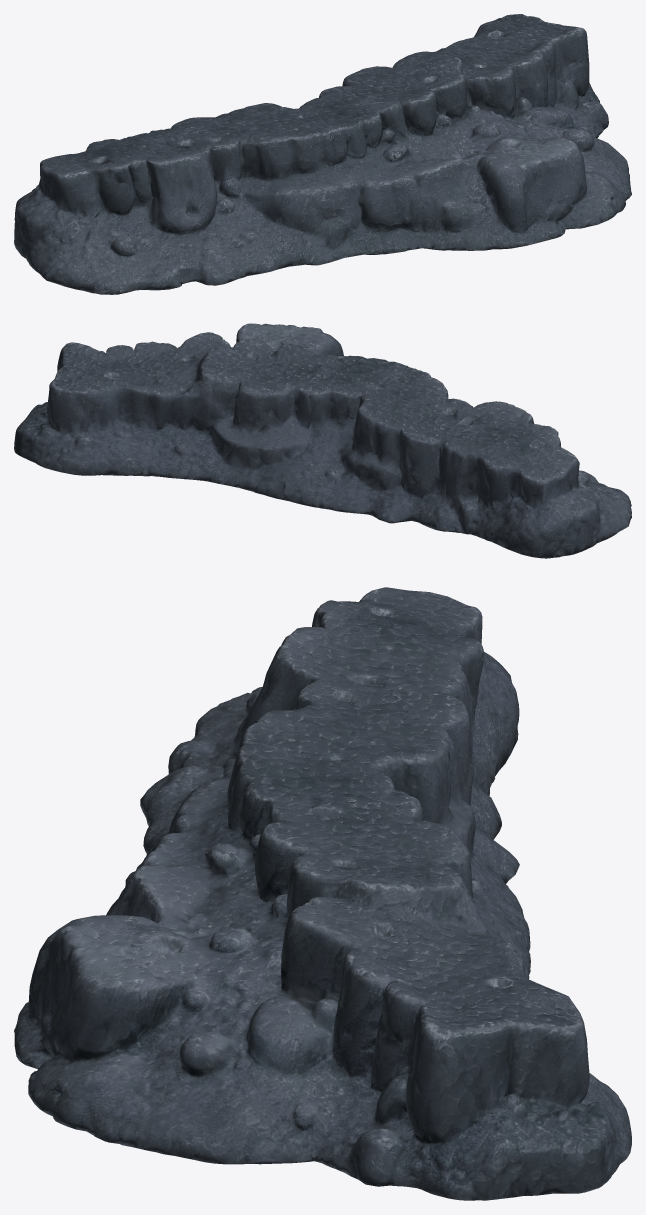
Rendered from prop-crater-rim.glb.
3 renders of one model, top to bottom at view 1: azimuth 30°, elevation 25°; view 2: azimuth 150°, elevation 25°; view 3: azimuth 270°, elevation 25°, orthographic. The views are drawn at different scales.
Size of the model in its own units: 1.9 by 0.3109 by 0.9834.
1 material, 1 textured.
